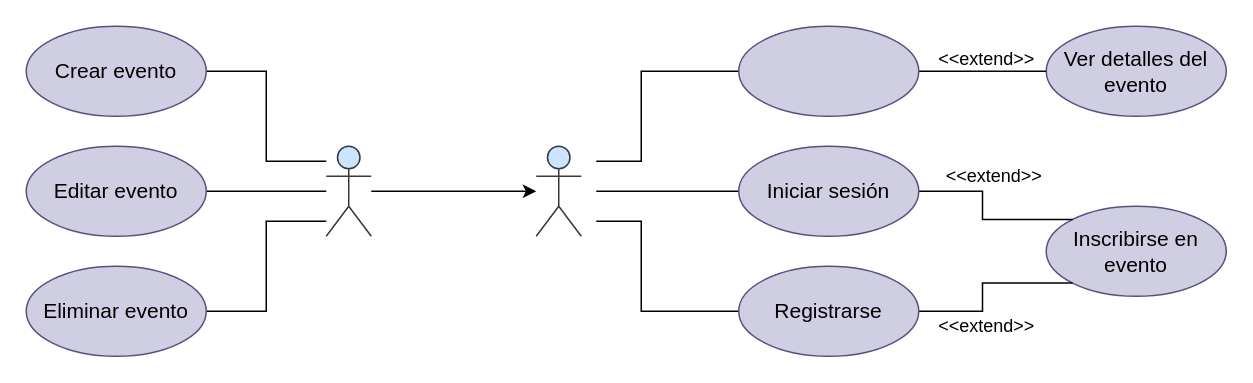
Some shapes in this 1253 by 383 pixel diagram are drawn without their labels. The centre of each missing label's shape, as x and y in pixels:
Buscar eventos: pixel 828 70
Organizador: pixel 348 190
Usuario: pixel 558 190
